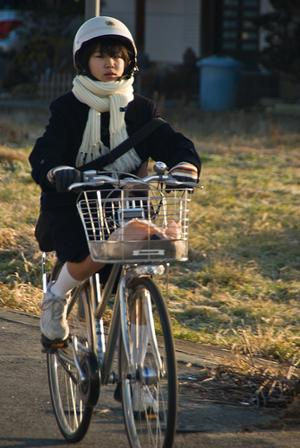person: (30, 13, 201, 419)
